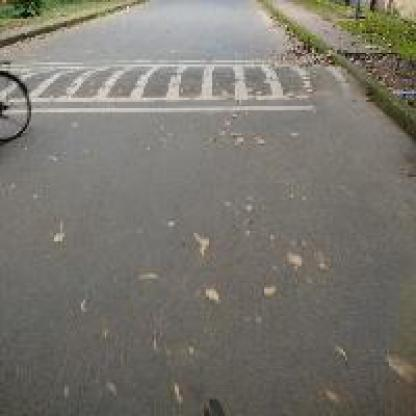Speed Bump: (35, 54, 391, 121)
